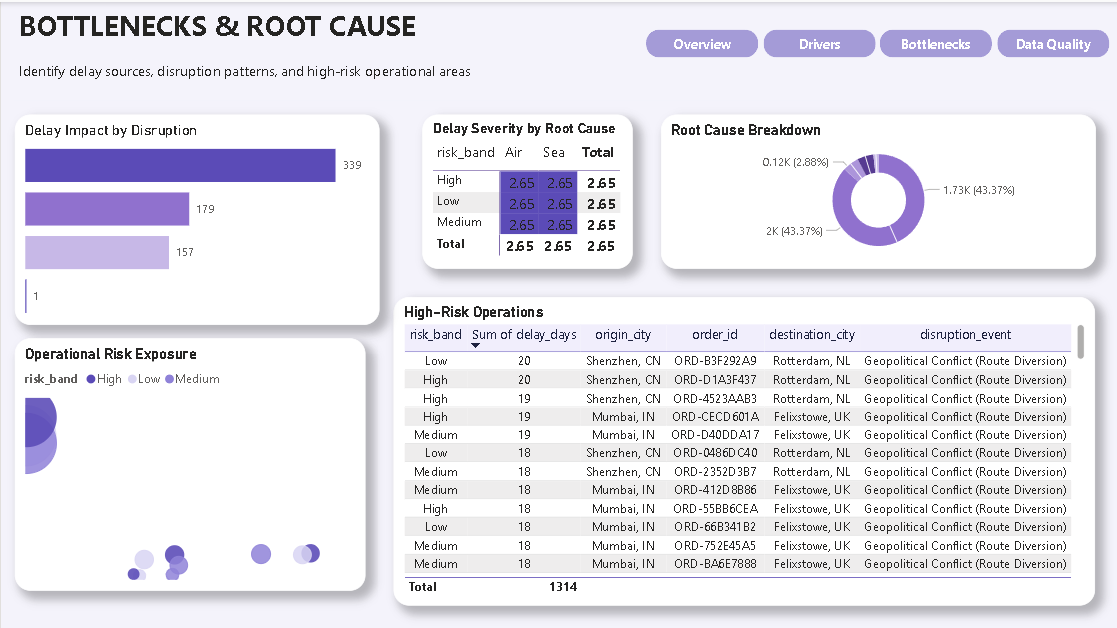

Layout of this report page (visuals, bound fields, positions):
{"tool":"powerbi","page":{"name":"Bottleneck & Root Cause","canvas":[1280,720],"ordinal":2},"visuals":[{"type":"textbox","box":[16,0,1248,112],"z":0},{"type":"tableEx","title":"High-Risk Operations","fields":{"Values":["ops v_fact_operations.risk_band","Sum(ops v_fact_operations.delay_days)","ops v_fact_operations.origin_city","ops v_fact_operations.order_id","ops v_fact_operations.destination_city","ops v_fact_operations.disruption_event"]},"box":[448,336,800,352],"z":1000},{"type":"group","id":"g1","title":"Group 1","box":[736,32,528,32],"z":2000},{"type":"donutChart","title":"Root Cause Breakdown","fields":{"Category":["ops v_fact_operations.disruption_event"],"Y":["CountNonNull(ops v_fact_operations.disruption_event)","Date.Total Orders"]},"box":[752,128,496,176],"z":3000},{"type":"clusteredBarChart","title":"Delay Impact by Disruption","fields":{"Category":["ops v_driver_breakdown.disruption_event"],"Y":["Sum(ops v_driver_breakdown.avg_delay_days)"]},"box":[16,128,416,240],"z":4000},{"type":"pivotTable","title":"Delay Severity by Root Cause","fields":{"Rows":["ops v_fact_operations.risk_band"],"Columns":["ops v_fact_operations.transportation_mode"],"Values":["DQ Metrics.Avg Delay Days Clean"]},"box":[480,128,240,176],"z":5000},{"type":"scatterChart","title":"Operational Risk Exposure","fields":{"X":["Sum(ops v_driver_breakdown.avg_delay_days)"],"Y":["Sum(ops v_driver_breakdown.total_shipping_cost)"],"Size":["Sum(ops v_driver_breakdown.total_orders)"],"Series":["ops v_driver_breakdown.risk_band"],"Category":["ops v_driver_breakdown.disruption_event"]},"box":[16,384,400,288],"z":6000},{"type":"actionButton","box":[736,32,128,32],"z":9000,"group":"g1"},{"type":"actionButton","box":[1136,32,128,32],"z":10000,"group":"g1"},{"type":"actionButton","box":[1002.7,32,128,32],"z":11000,"group":"g1"},{"type":"actionButton","box":[869.3,32,128,32],"z":12000,"group":"g1"}]}

Visuals, with their boxes in screenshot pixels (x1, y1, x2, y2), scaled from the page's 1280x720 canvas onto the 1117x628 screenshot:
textbox: left=14, top=0, right=1103, bottom=98
"High-Risk Operations" tableEx: left=391, top=293, right=1089, bottom=600
"Group 1" group: left=642, top=28, right=1103, bottom=56
"Root Cause Breakdown" donutChart: left=656, top=112, right=1089, bottom=265
"Delay Impact by Disruption" clusteredBarChart: left=14, top=112, right=377, bottom=321
"Delay Severity by Root Cause" pivotTable: left=419, top=112, right=628, bottom=265
"Operational Risk Exposure" scatterChart: left=14, top=335, right=363, bottom=586
actionButton: left=642, top=28, right=754, bottom=56
actionButton: left=991, top=28, right=1103, bottom=56
actionButton: left=875, top=28, right=987, bottom=56
actionButton: left=759, top=28, right=870, bottom=56
